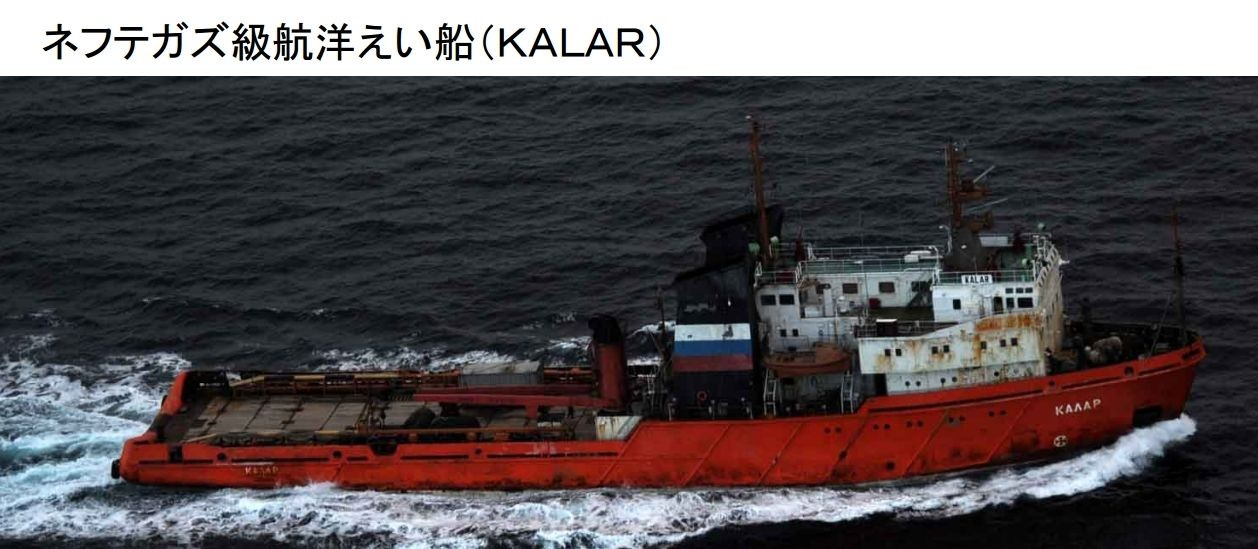otherboat: (120, 148, 1210, 497)
